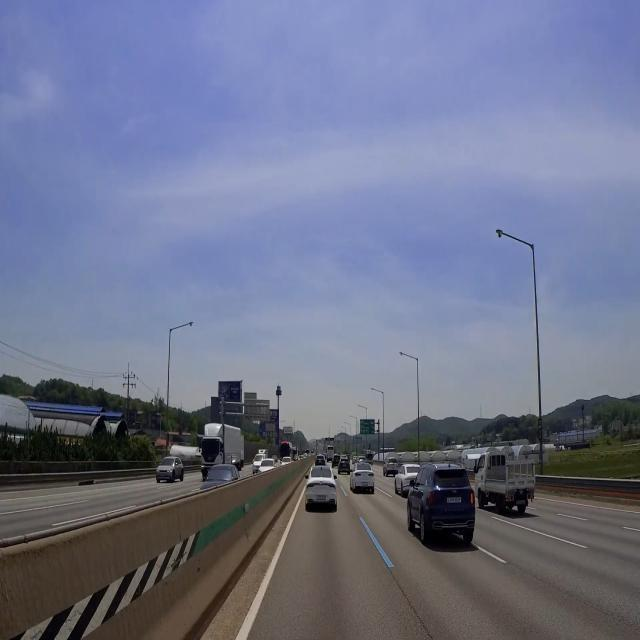car: (313, 492, 331, 506), (358, 476, 373, 491), (446, 493, 463, 506), (157, 468, 171, 483), (515, 499, 529, 508)
